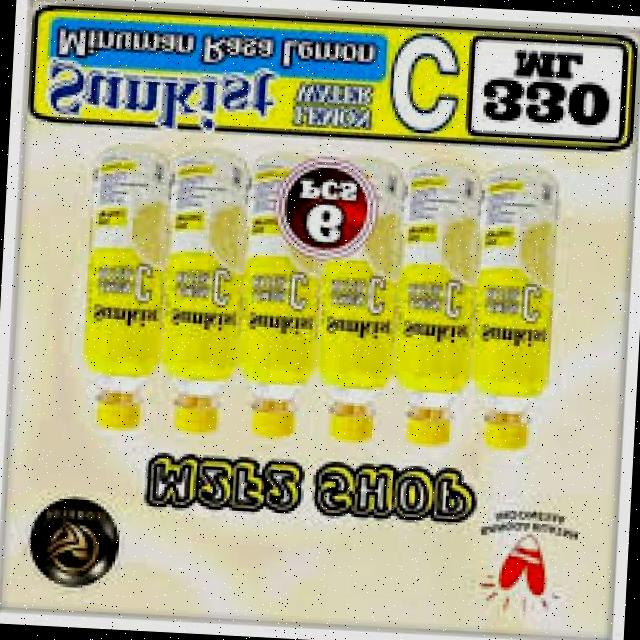bottle: (64, 136, 193, 432), (463, 158, 586, 462), (308, 140, 424, 442), (144, 141, 260, 434), (232, 144, 338, 443), (384, 168, 490, 458)
cap: (478, 411, 530, 456), (326, 401, 376, 446), (248, 398, 300, 441), (94, 397, 144, 434), (407, 410, 457, 447), (170, 402, 212, 438)
